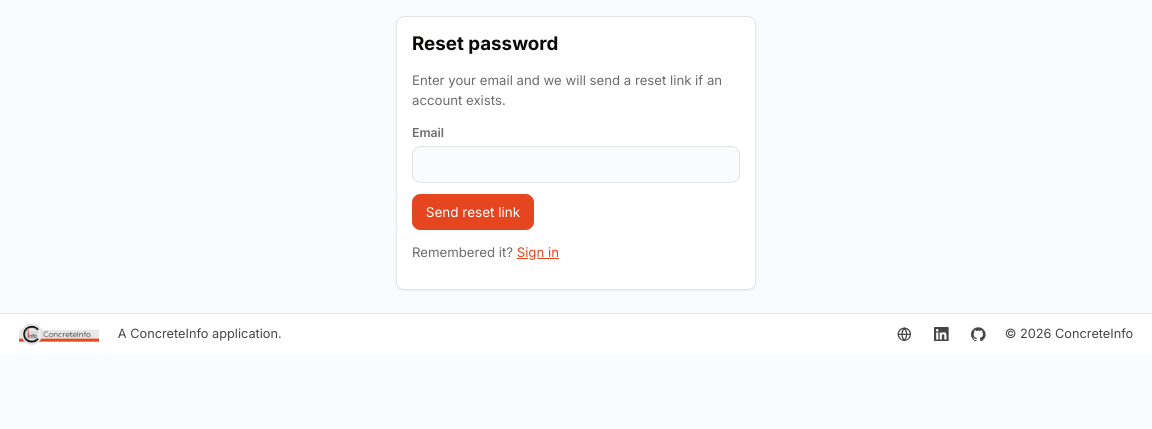
Test: ForgotPasswordPage › shows a generic error on a network failure
Type "a@b.co" into the field labelled "Email" at (576, 165), box [412, 146, 740, 183]
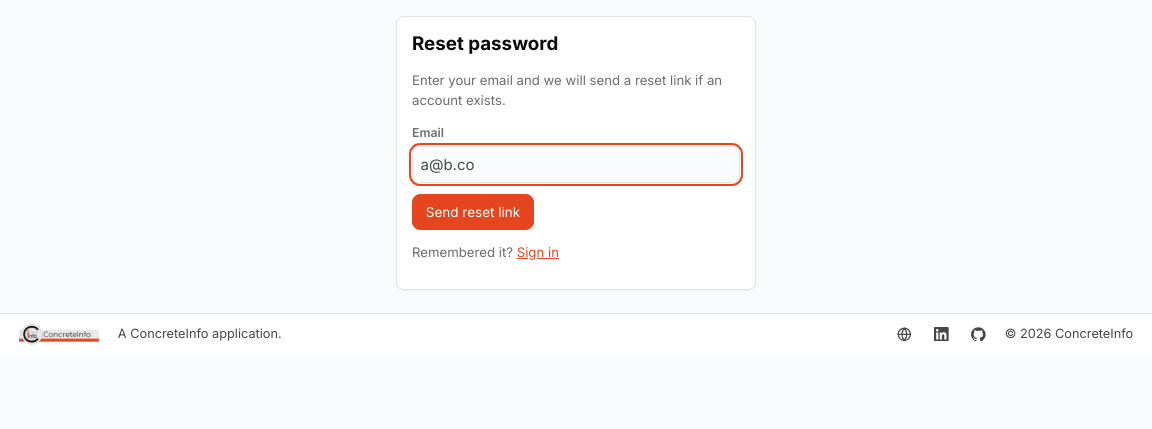
Click the button "Send reset link" at (473, 212), box [412, 194, 534, 230]
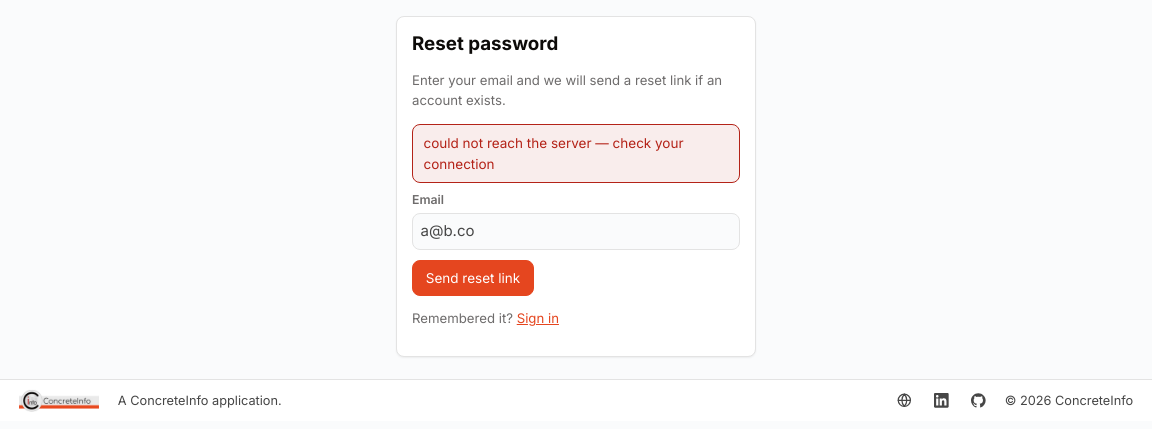
Result: the message shows "could not reach the server" at [424, 135, 684, 172]
